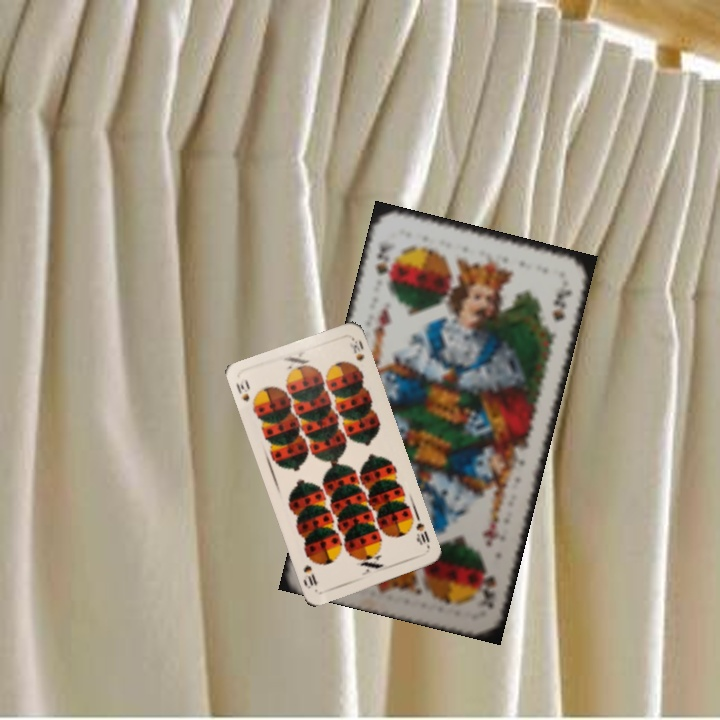S10: (232, 374, 259, 413), (412, 519, 432, 551)
SK: (371, 241, 397, 290), (475, 562, 499, 612)
